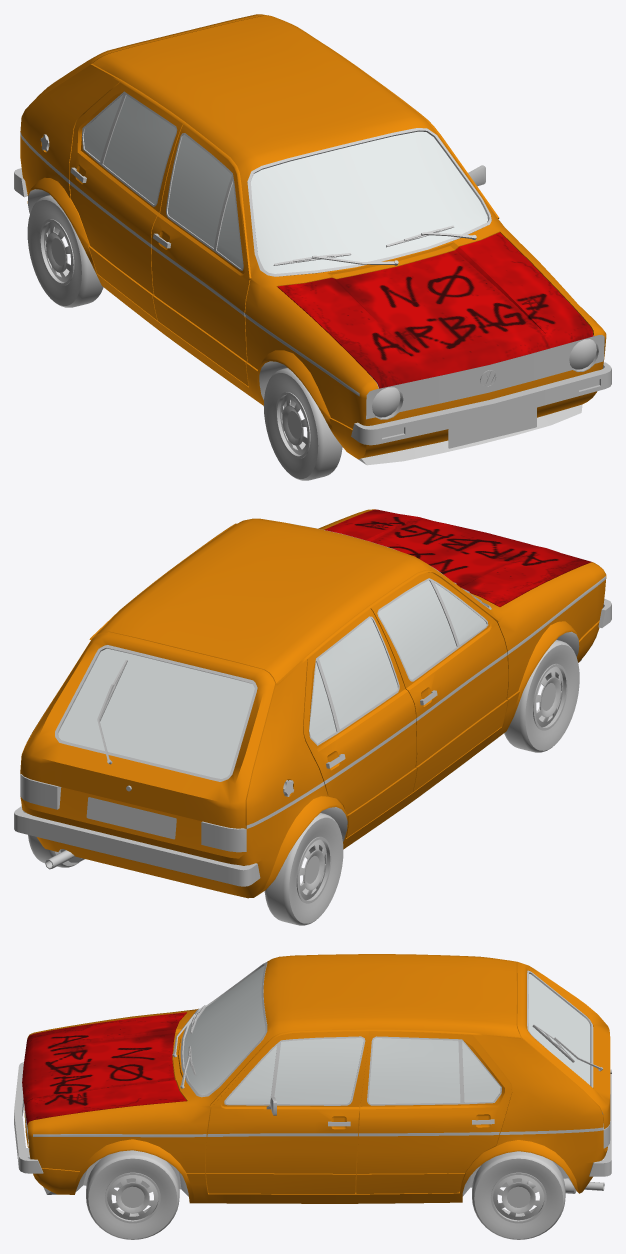
File: Volkswagen Golf Mk1 (LP) 1.fbx
3 views of the same model, one above another, from view 1: azimuth 30°, elevation 25°; view 2: azimuth 150°, elevation 25°; view 3: azimuth 270°, elevation 25° (orthographic). The views are drawn at different scales.
Visible parts, largest first — view 1: Body, Hood, Windshield, Door FR, Door BR, Wheel FR, Window BR, Window FR, Wheel BR, Plates, Trunk Lid; view 2: Body, Trunk Lid, Back Window, Door FR, Door BR, Hood, Window BR, Wheel BR, Window FR, Wheel FR, Plates; view 3: Body, Door FL, Door BL, Hood, Window BL, Wheel FL, Window FL, Wheel BL, Windshield, Trunk Lid, Back Window.
Boxes of the visible parts, x1,y1,x2,y2 form: Body: (14, 15, 611, 465); Hood: (277, 232, 593, 388); Windshield: (251, 131, 487, 273); Door FR: (151, 125, 250, 386); Door BR: (69, 82, 183, 320); Wheel FR: (263, 368, 342, 480); Window BR: (83, 94, 175, 204); Window FR: (168, 134, 242, 268); Wheel BR: (27, 195, 103, 307); Plates: (448, 407, 536, 448); Trunk Lid: (26, 14, 268, 108); Body: (14, 509, 611, 898); Trunk Lid: (20, 632, 275, 828); Back Window: (58, 648, 254, 778); Door FR: (370, 572, 508, 791); Door BR: (303, 608, 417, 837); Hood: (324, 509, 592, 606); Window BR: (309, 618, 397, 743); Wheel BR: (264, 813, 343, 925); Window FR: (378, 580, 486, 679); Wheel FR: (504, 640, 579, 752); Plates: (86, 797, 176, 839); Body: (14, 954, 611, 1203); Door FL: (205, 1031, 368, 1193); Door BL: (356, 1031, 511, 1193); Hood: (22, 1012, 186, 1124); Window BL: (368, 1038, 500, 1103); Wheel FL: (86, 1150, 179, 1239); Window FL: (225, 1038, 363, 1103); Wheel BL: (472, 1151, 565, 1239); Windshield: (183, 965, 265, 1095); Trunk Lid: (517, 962, 611, 1128); Back Window: (528, 973, 590, 1085).
Bounding box in the file's own units: 169 × 140 × 372.
